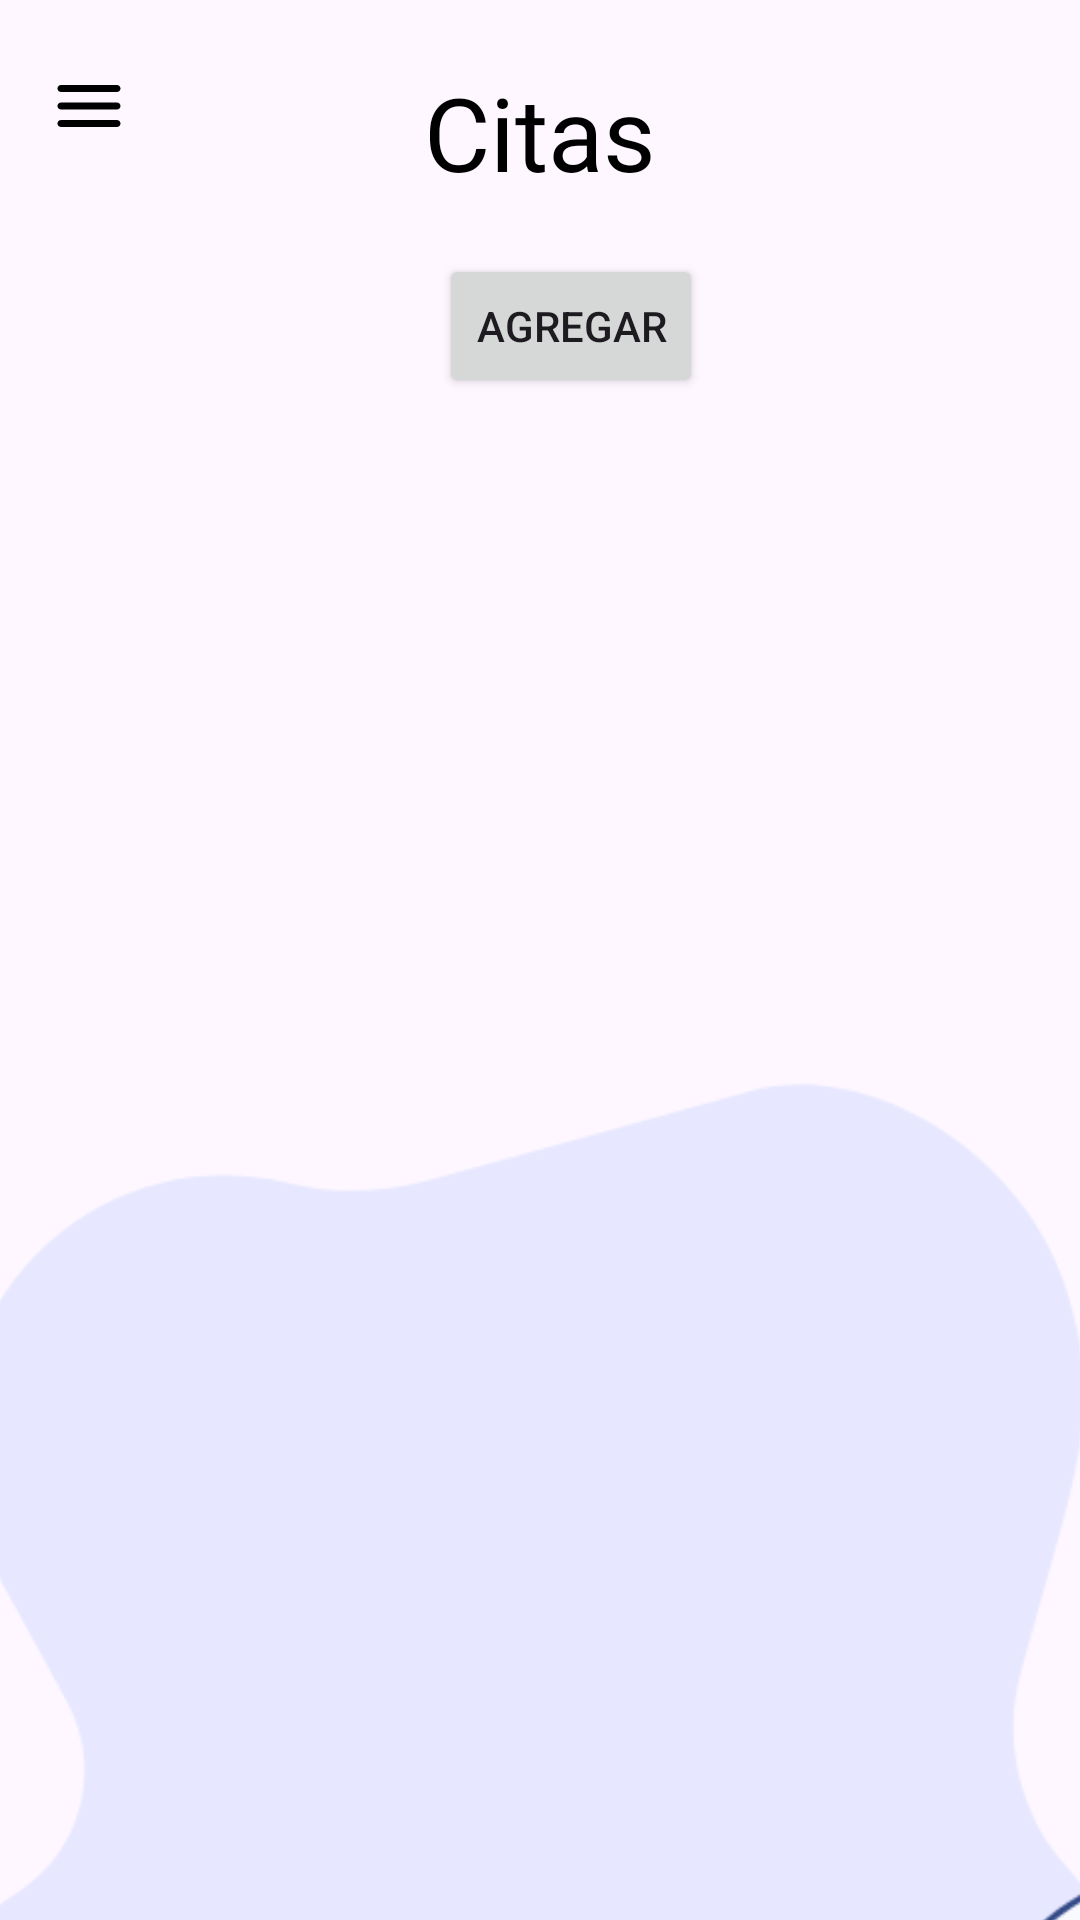

Point at icon controls on the screen. Image size 1080×1920, points as (x=x, y=y).
menu: (x=89, y=106)
